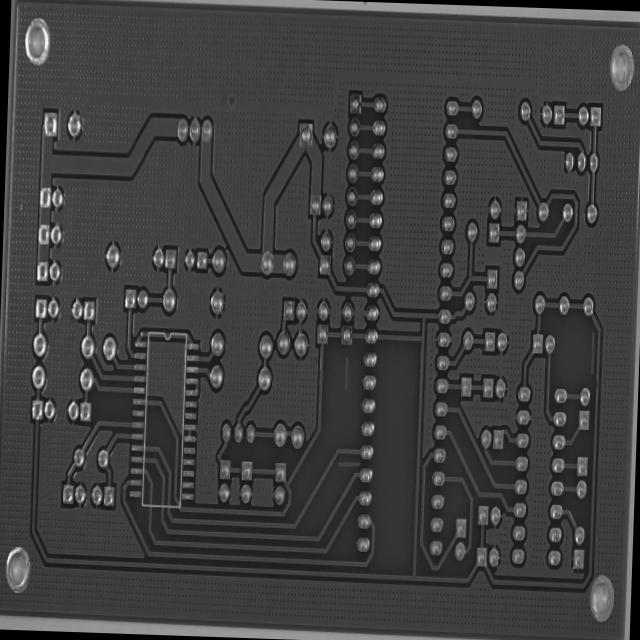spurious_copper: (585, 325, 599, 379), (334, 454, 364, 477), (340, 352, 353, 398)
